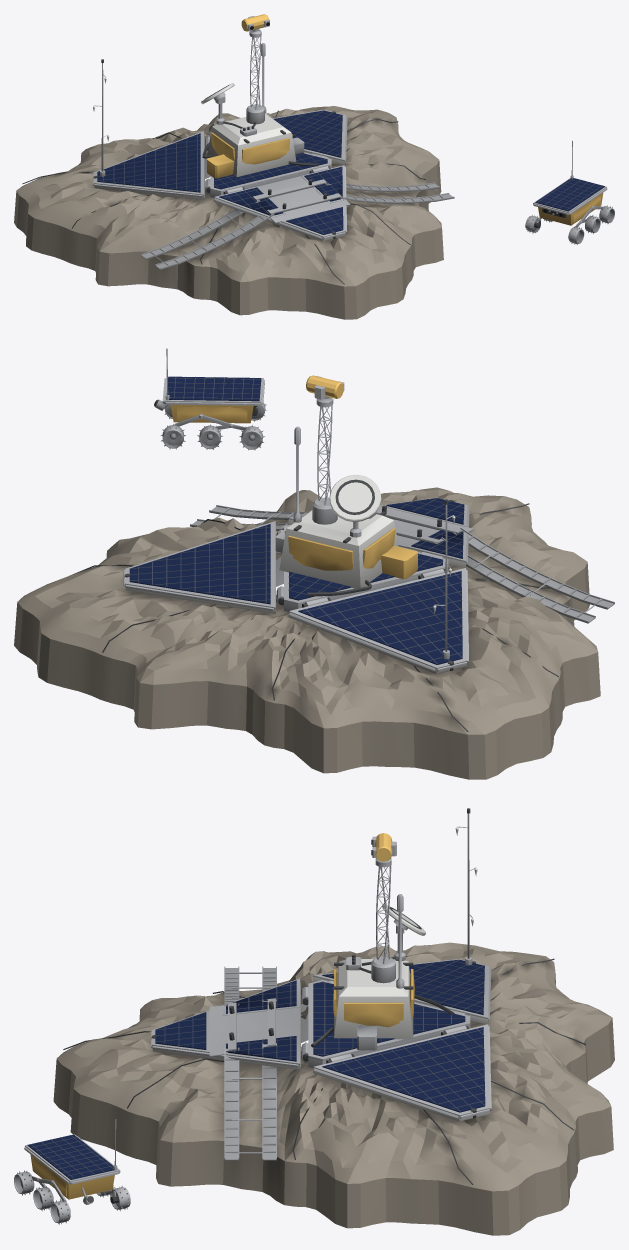
File: pathfinder.glb
3 renders of one model, top to bottom at view 1: azimuth 30°, elevation 25°; view 2: azimuth 150°, elevation 25°; view 3: azimuth 270°, elevation 25°, orthographic. The views are drawn at different scales.
Visible parts, largest first — view 1: pathfinder_mesh, sojourner_mesh; view 2: pathfinder_mesh, sojourner_mesh; view 3: pathfinder_mesh, sojourner_mesh.
Part boxes in pixels (x1,y1,x2,y2): pathfinder_mesh: (14, 14, 454, 319); sojourner_mesh: (525, 140, 614, 244); pathfinder_mesh: (14, 375, 614, 779); sojourner_mesh: (154, 348, 267, 450); pathfinder_mesh: (53, 808, 614, 1235); sojourner_mesh: (14, 1119, 130, 1224).
Size of the model in its own units: 4.05 by 1.84 by 3.63.
